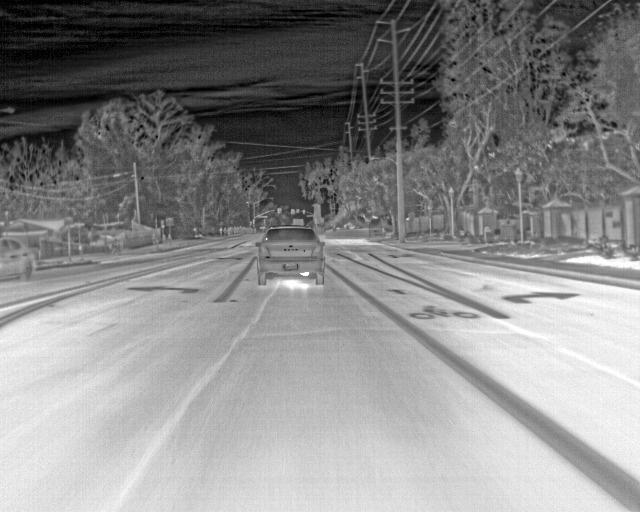car: (256, 226, 326, 287), (0, 234, 41, 284)
